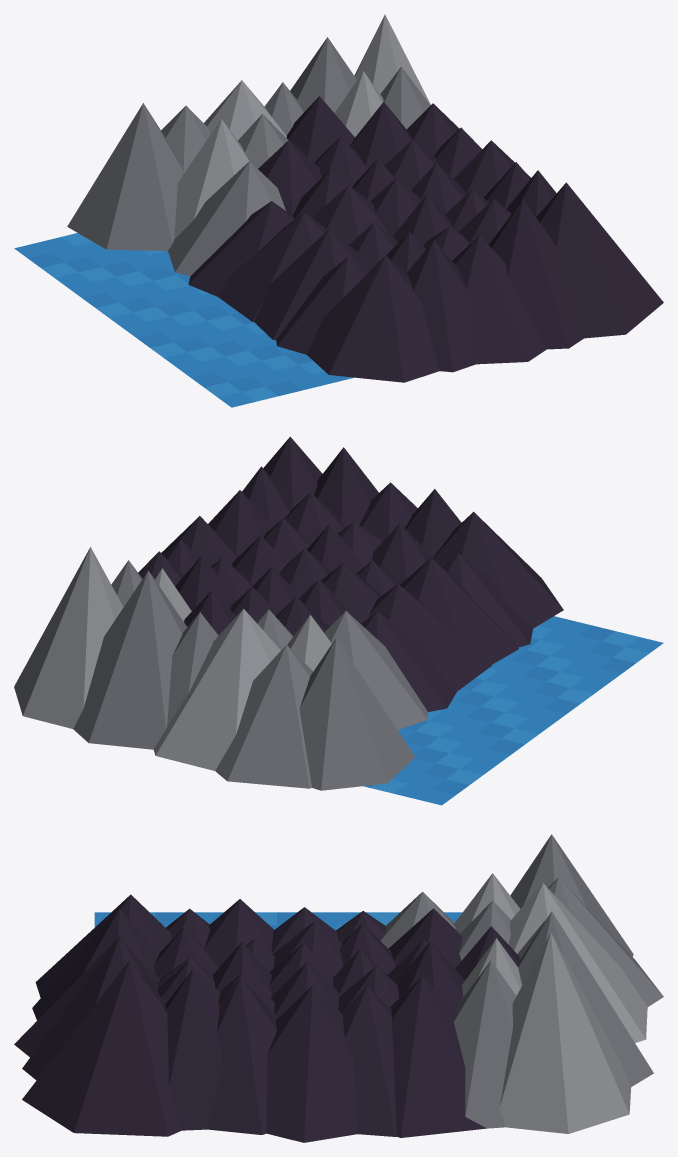
Rendered from chunk_4_24.glb.
3 renders of one model, top to bottom at view 1: azimuth 30°, elevation 25°; view 2: azimuth 150°, elevation 25°; view 3: azimuth 270°, elevation 25°, orthographic. The views are drawn at different scales.
Visible parts, largest first — view 1: chunk_4_24; view 2: chunk_4_24; view 3: chunk_4_24.
Boxes of the visible parts, x1,y1,x2,y2 form: chunk_4_24: (14,14,663,407); chunk_4_24: (14,436,663,805); chunk_4_24: (14,834,663,1142).
Bounding box in the file's own units: 18.72 × 6.35 × 21.39.
